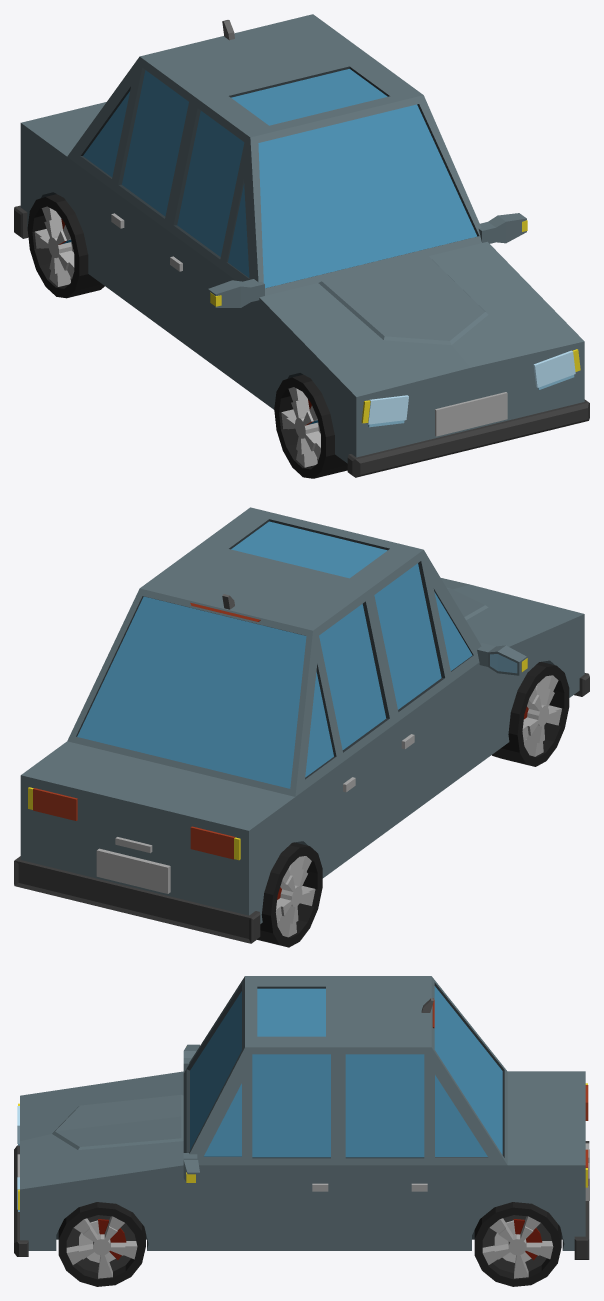
The model's file is Audi_Q4_SUV_e-tron.glb.
3 renders of one model, top to bottom at view 1: azimuth 30°, elevation 25°; view 2: azimuth 150°, elevation 25°; view 3: azimuth 270°, elevation 25°, orthographic. The views are drawn at different scales.
Visible parts, largest first — view 1: Car, Bck Wheels, Frw Weels, Frt Bumper, Frt License Plate, Frt Heand Lights; view 2: Car, Bck Bumper, Frw Weels, Bck Wheels, Bck Lights, Bck License Plate; view 3: Car, Frw Weels, Bck Wheels, Frt Bumper, Bck Bumper.
Boxes of the visible parts, box(x1,y1,x2,y2) form: Car: box(20, 14, 584, 463); Bck Wheels: box(27, 194, 104, 298); Frw Weels: box(274, 374, 347, 478); Frt Bumper: box(347, 399, 589, 477); Frt License Plate: box(435, 392, 507, 436); Frt Heand Lights: box(367, 350, 575, 424); Car: box(20, 507, 584, 923); Bck Bumper: box(14, 856, 260, 943); Frw Weels: box(492, 662, 569, 766); Bck Wheels: box(257, 842, 322, 947); Bck Lights: box(28, 787, 240, 860); Bck License Plate: box(96, 848, 170, 893); Car: box(20, 976, 585, 1250); Frw Weels: box(58, 1202, 145, 1286); Bck Wheels: box(474, 1202, 561, 1286); Frt Bumper: box(14, 1145, 28, 1256); Bck Bumper: box(574, 1141, 589, 1259).
Bounding box in the file's own units: 1.98 × 1.71 × 3.76.
13 materials, 13 textured.
